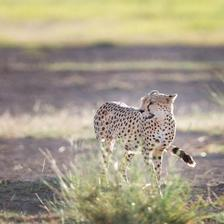Cheetah: (92, 89, 196, 193)
